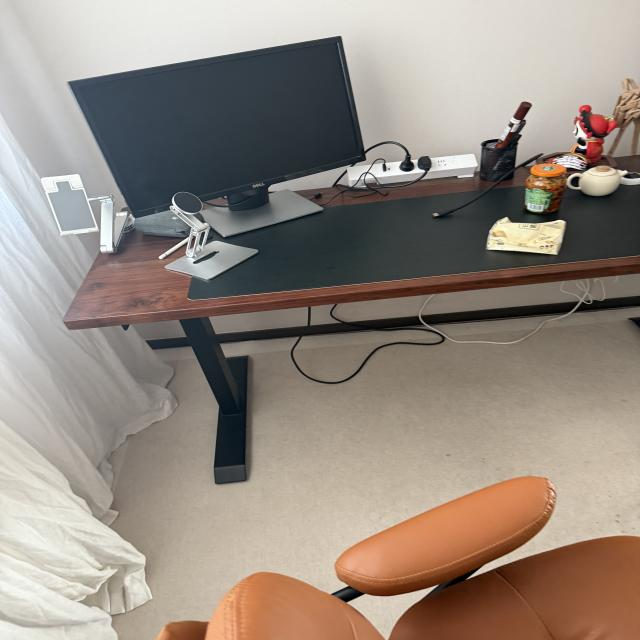phone holder: (133, 192, 267, 285)
